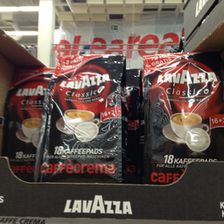coffee: (35, 53, 127, 182), (138, 49, 223, 184), (3, 64, 53, 179)
